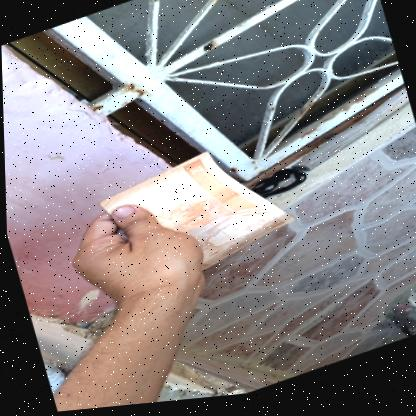twenty-back-vef: (93, 131, 301, 301)
